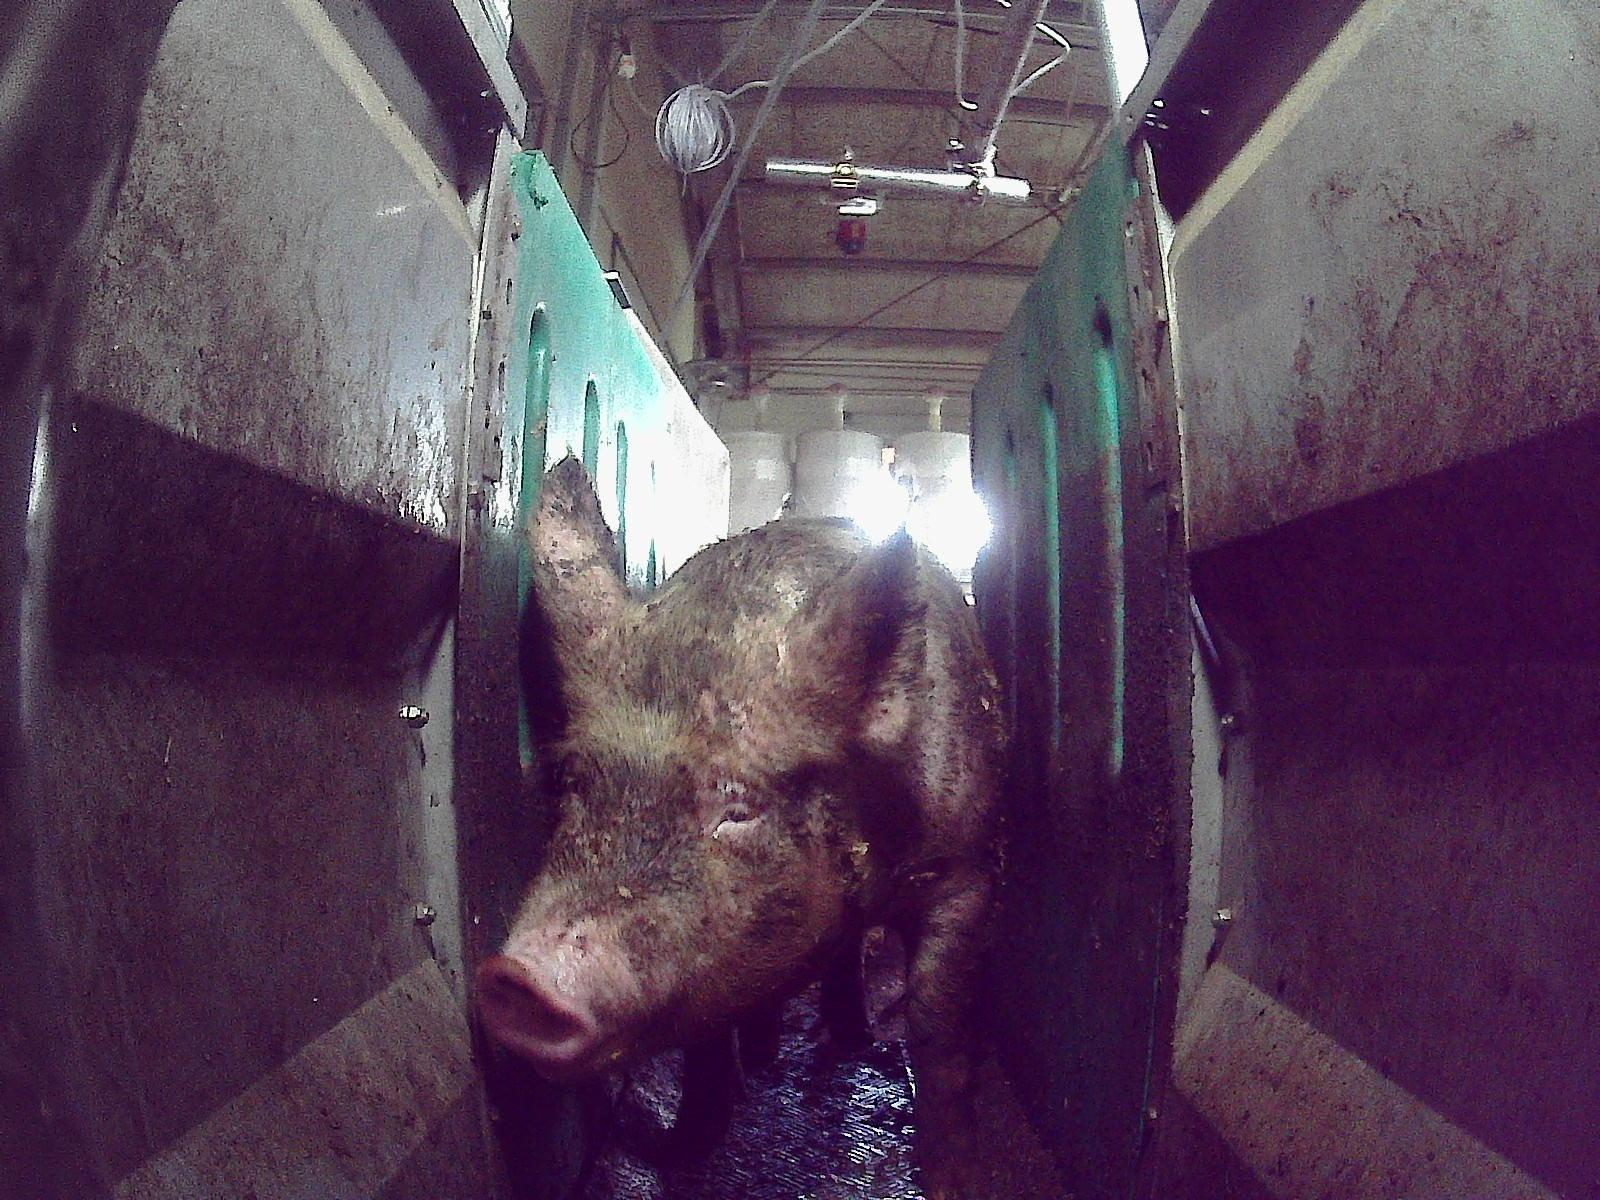Face: (471, 590, 864, 1081)
